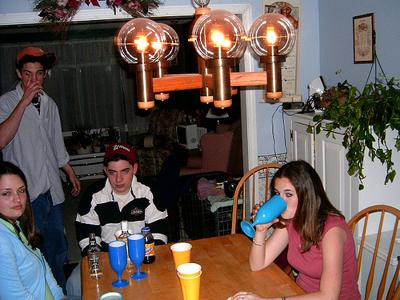person: (245, 160, 365, 300)
